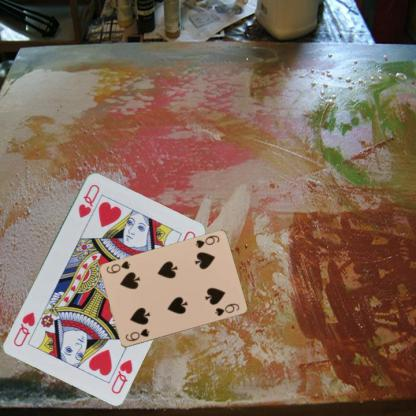6s: (192, 233, 221, 250), (122, 326, 151, 342)
Qh: (75, 181, 101, 219), (108, 357, 134, 395)
